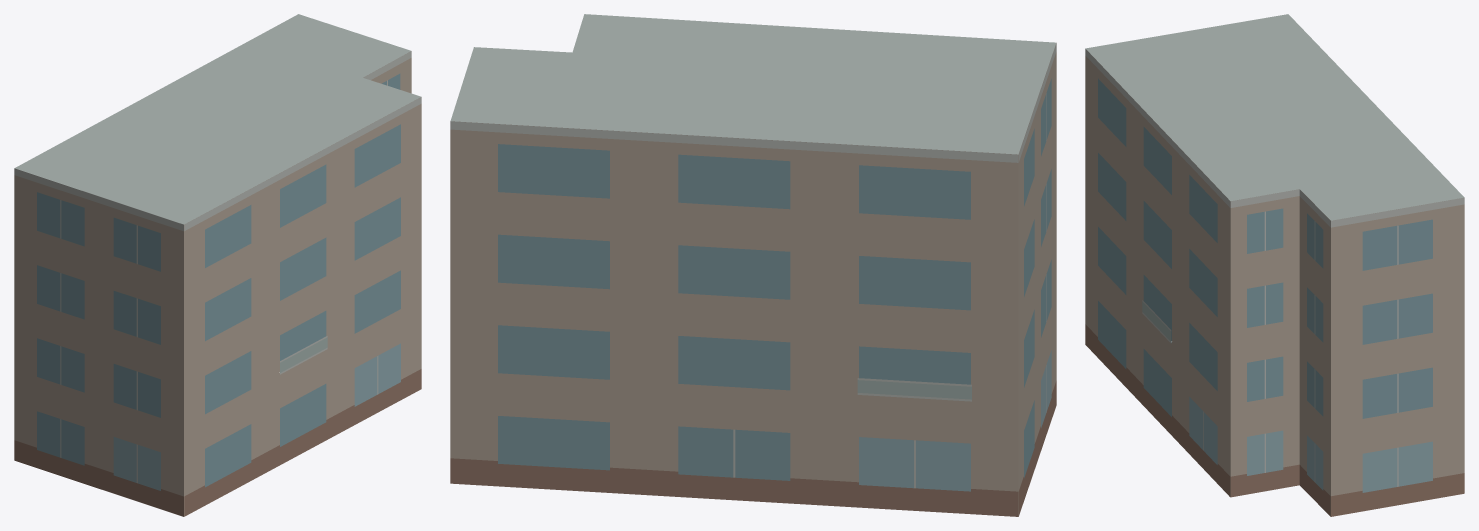
Rendered from survey-upis-32700130.glb.
3 renders of one model, left to right at view 1: azimuth 30°, elevation 25°; view 2: azimuth 150°, elevation 25°; view 3: azimuth 270°, elevation 25°, orthographic. The views are drawn at different scales.
Parts seen in each view (by area): view 1: survey-upis-32700130.tmp; view 2: survey-upis-32700130.tmp; view 3: survey-upis-32700130.tmp.
Part boxes in pixels (x1,y1,x2,y2): survey-upis-32700130.tmp: (14,14,421,516); survey-upis-32700130.tmp: (450,14,1056,516); survey-upis-32700130.tmp: (1085,14,1464,516).
Size of the model in its own units: 15.79 by 10.54 by 12.24.
